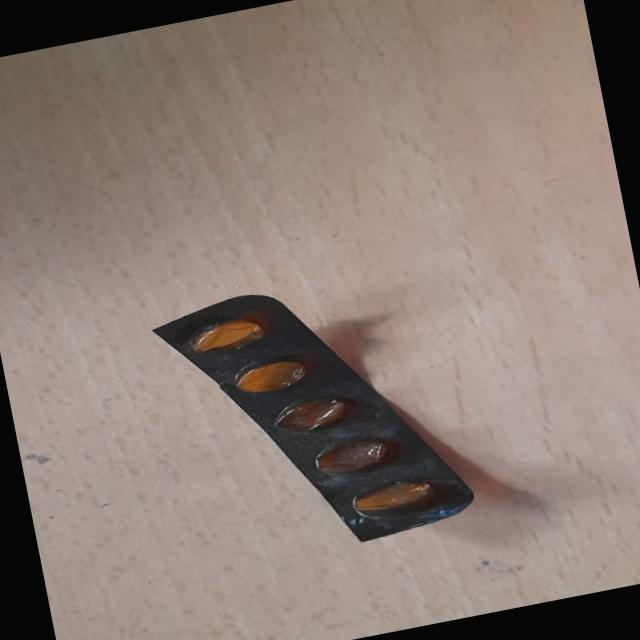Blister_Packs - Non Recyclable: (143, 256, 483, 576)
